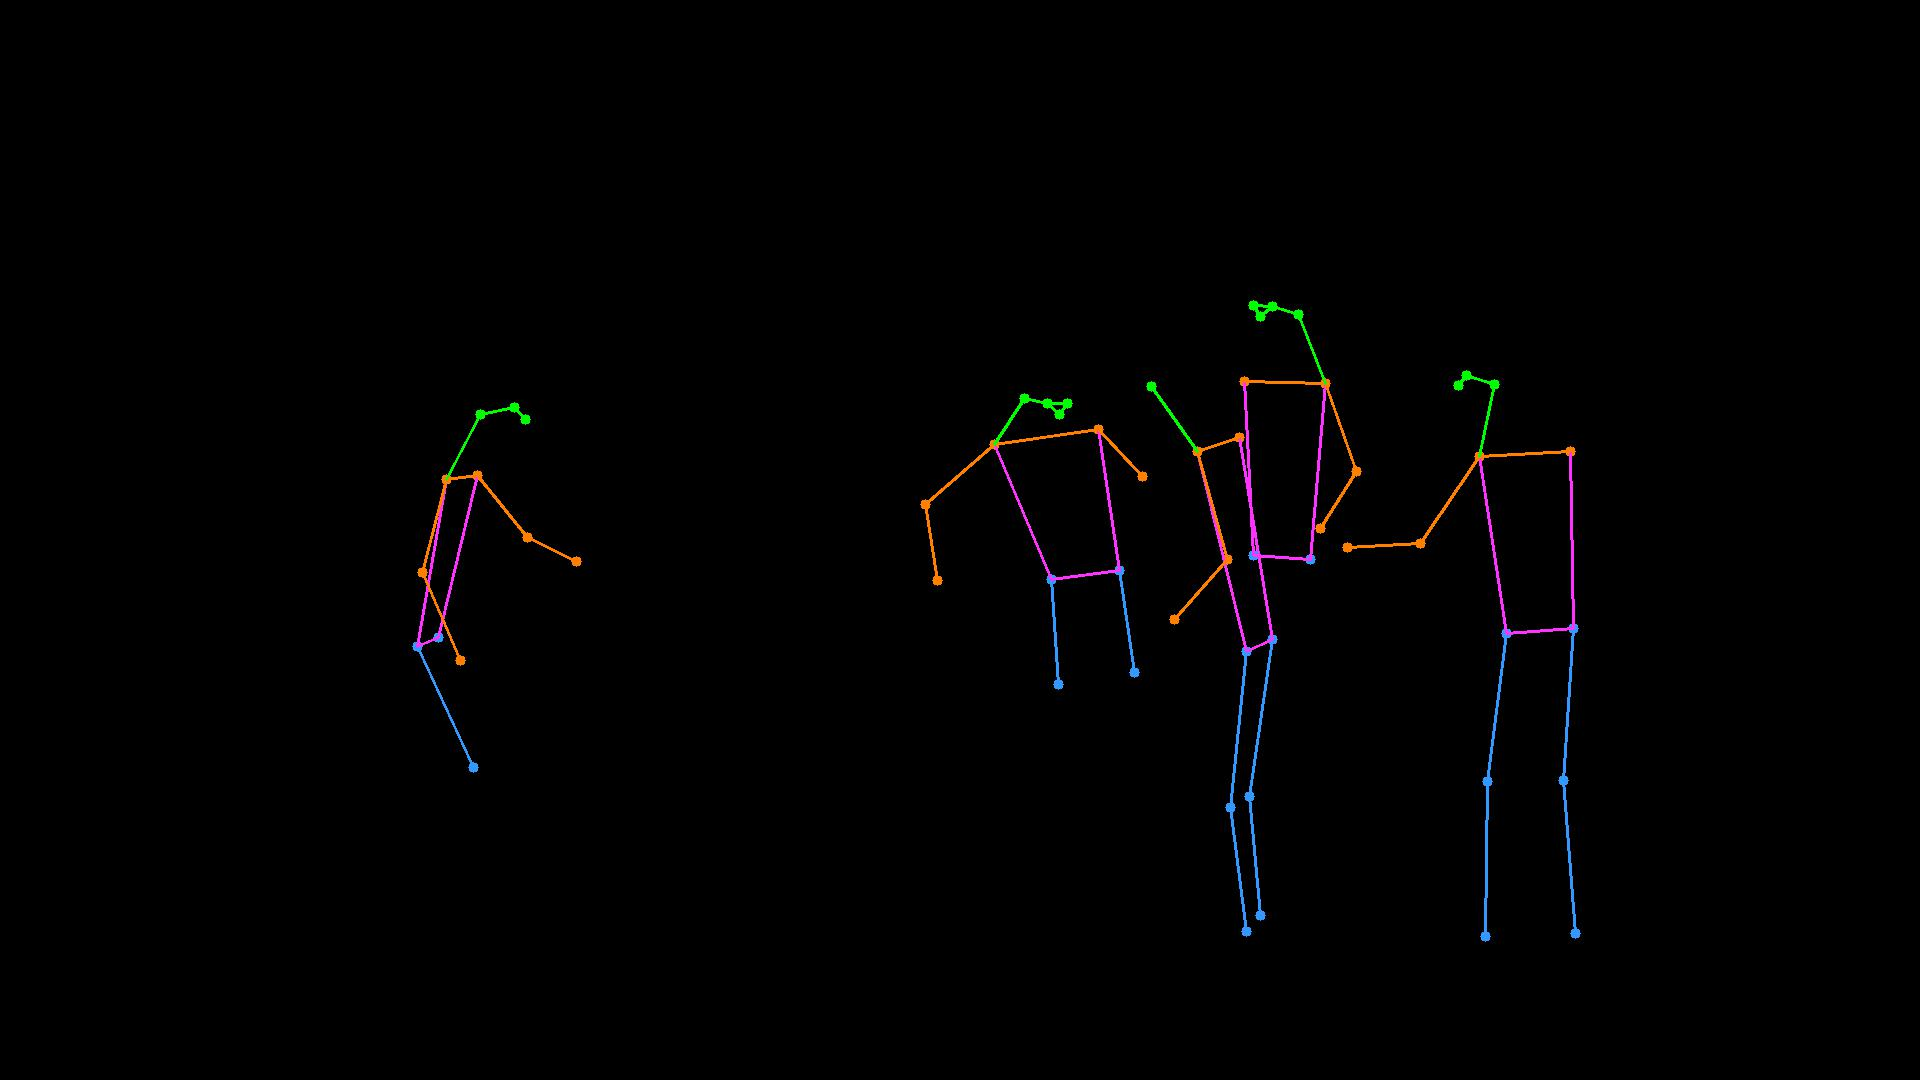normal: (1335, 367, 1630, 965), (868, 363, 1159, 708), (392, 382, 588, 802)
